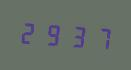nine: (41, 18, 63, 49)
seven: (87, 21, 109, 53)
three: (64, 19, 86, 51)
two: (18, 16, 40, 48)
